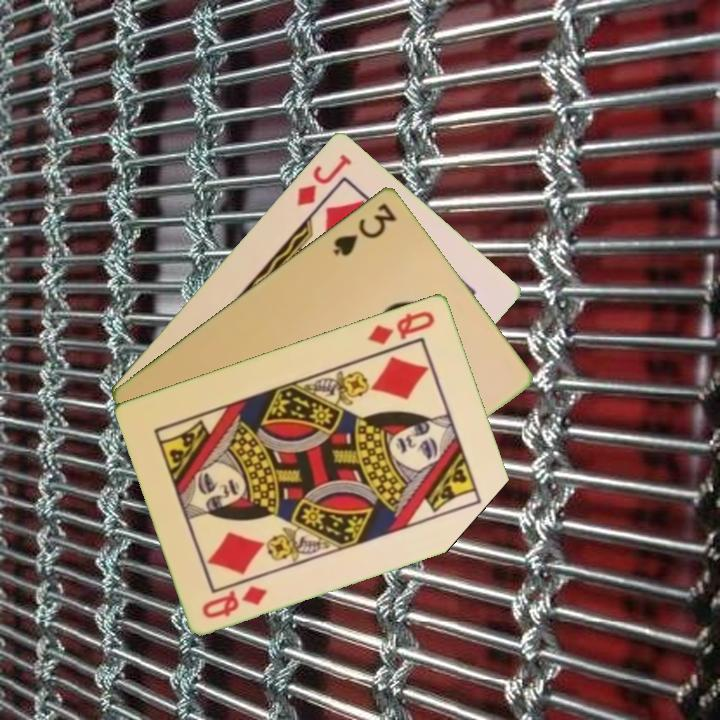3s: (329, 198, 400, 259)
Jd: (293, 149, 355, 209)
Qd: (364, 306, 438, 347), (198, 581, 271, 621)
